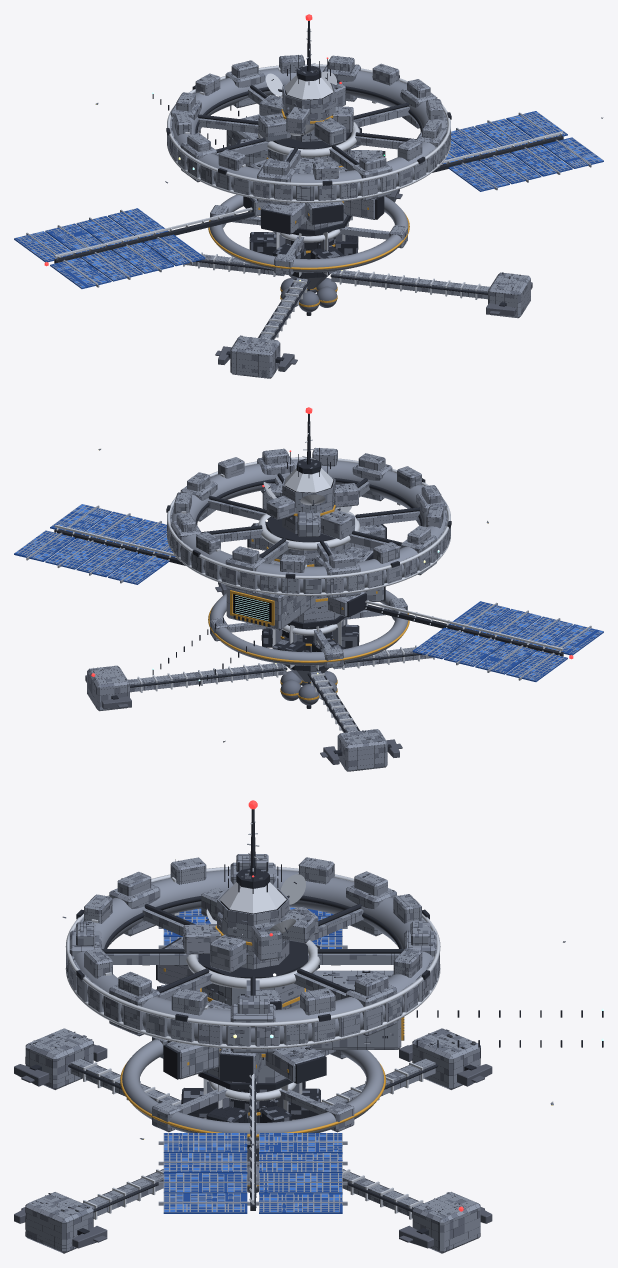
File: station.glb
3 renders of one model, top to bottom at view 1: azimuth 30°, elevation 25°; view 2: azimuth 150°, elevation 25°; view 3: azimuth 270°, elevation 25°, orthographic. The views are drawn at different scales.
Visible parts, largest first — view 1: core_mesh, ring_mesh, ring2_mesh; view 2: core_mesh, ring_mesh, ring2_mesh; view 3: core_mesh, ring_mesh, ring2_mesh.
Boxes of the visible parts, x1=… form: core_mesh: x1=14, y1=21, x2=603, y2=378; ring_mesh: x1=166, y1=54, x2=451, y2=205; ring2_mesh: x1=208, y1=194, x2=409, y2=275; core_mesh: x1=14, y1=414, x2=603, y2=771; ring_mesh: x1=166, y1=448, x2=451, y2=598; ring2_mesh: x1=208, y1=590, x2=409, y2=668; core_mesh: x1=14, y1=809, x2=603, y2=1253; ring_mesh: x1=65, y1=854, x2=440, y2=1052; ring2_mesh: x1=120, y1=1036, x2=385, y2=1140.
Bounding box in the file's own units: 622 × 341 × 458.
